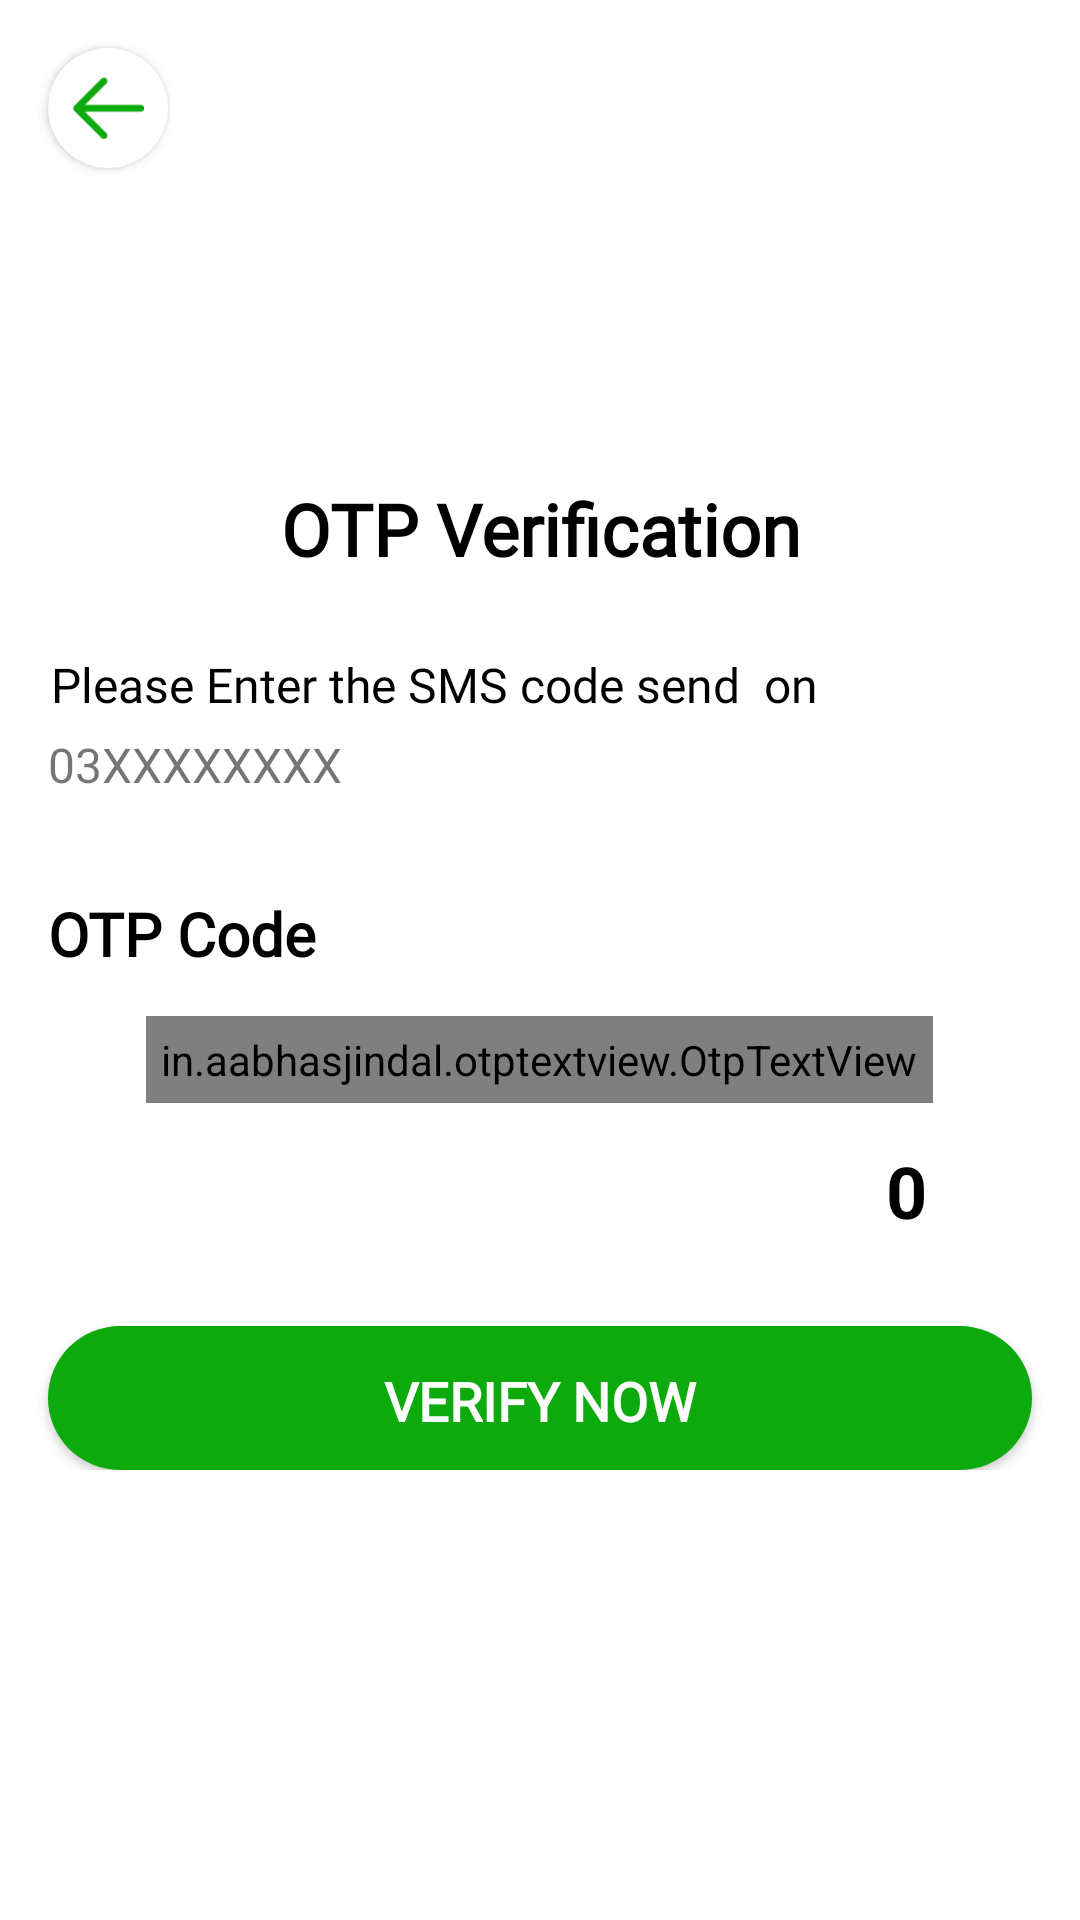

Icons on this 1080 x 1920 Android screen, each with the point to tap as point (x, y):
arrow back: point (96, 108)
